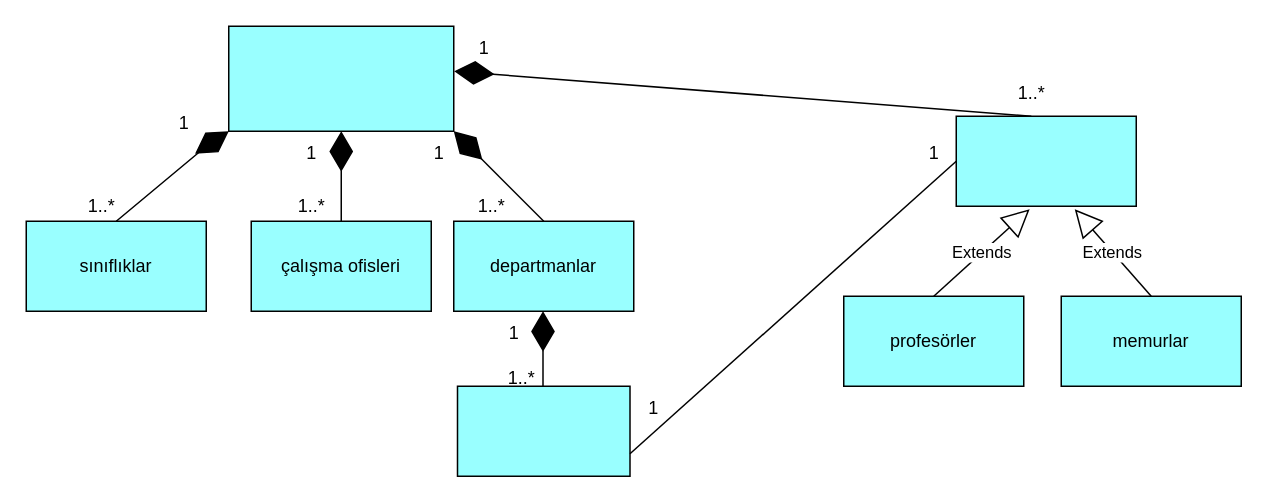
The diagram is 1268 pixels wide and 503 high, and some of its shapes have lost their labels. The shapes that lost their labels are listed below. From the top down, each one's centre as x and y in pixels, then its label:
At (x=340, y=78): "Üniversite".
At (x=1045, y=160): "çalışanlar".
At (x=543, y=430): "ofisler".
